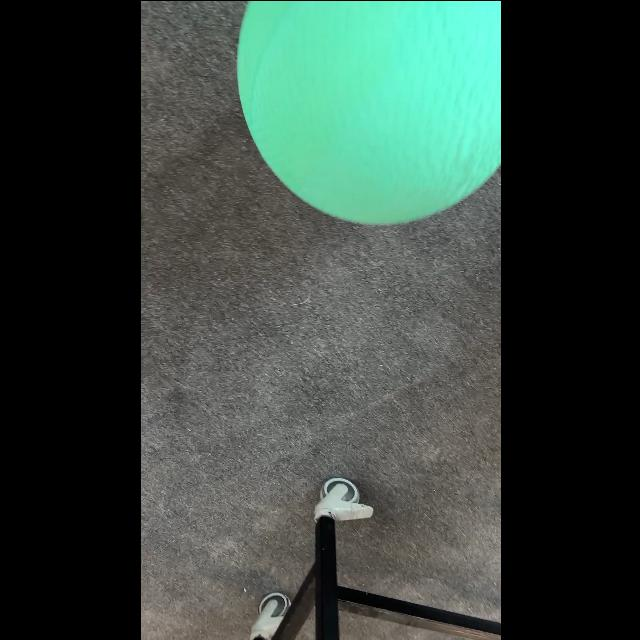ALGAE: (235, 2, 499, 226)
